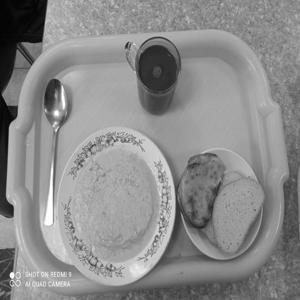bread: (200, 163, 269, 264)
cheese_sandwich: (168, 139, 223, 241)
coffee: (120, 26, 188, 123)
porridge: (64, 127, 161, 272)
